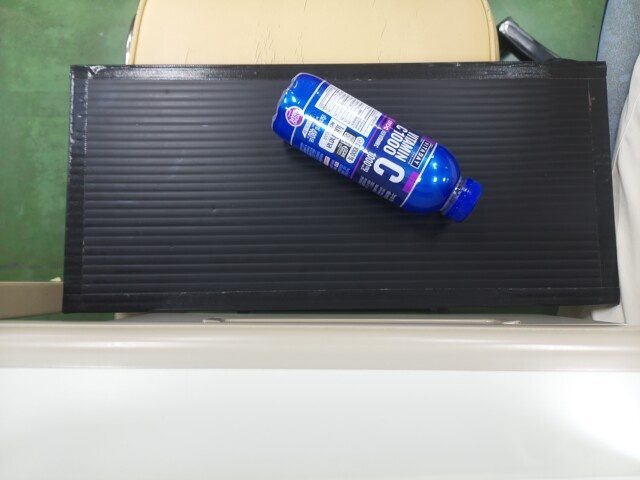plastic_bottle: (319, 93, 481, 220)
